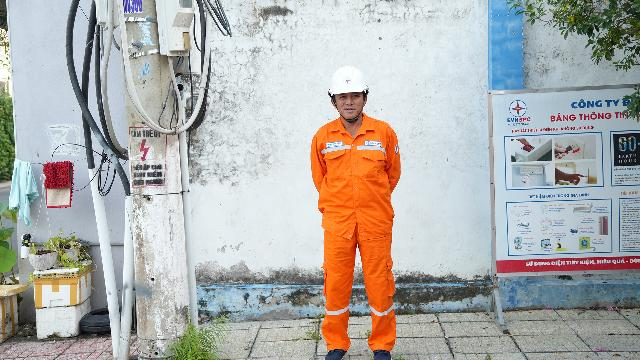helmet: (323, 53, 373, 104)
shoes: (312, 343, 349, 360), (368, 348, 395, 360)
